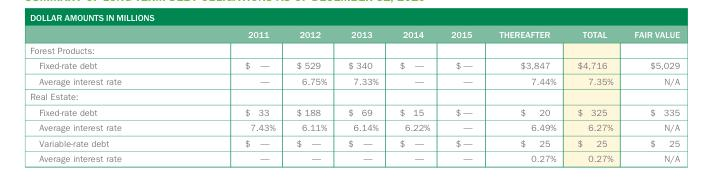table: (29, 28, 679, 163)
table column: (29, 28, 182, 163), (182, 28, 285, 163), (484, 28, 566, 163), (566, 28, 623, 163), (623, 28, 679, 163), (336, 28, 388, 163), (285, 28, 336, 163), (388, 28, 439, 163), (439, 28, 484, 163)
table column header: (29, 28, 679, 41)
table projected row header: (29, 41, 679, 57), (29, 88, 679, 103)
table row: (29, 41, 679, 57), (29, 72, 679, 88), (29, 103, 679, 119), (29, 134, 679, 150), (29, 57, 679, 72), (29, 88, 679, 103), (29, 119, 679, 134), (29, 28, 679, 41), (29, 150, 679, 163)
